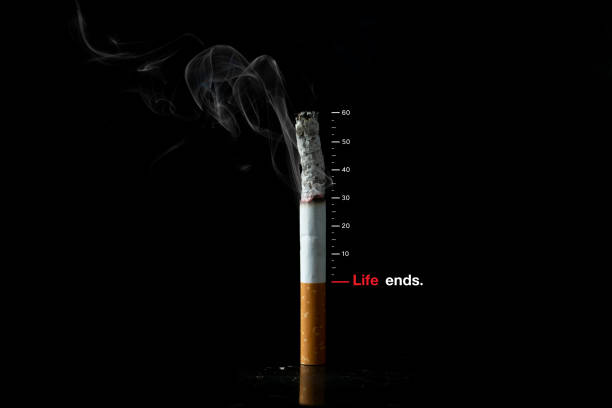cigarette: (296, 111, 329, 369)
